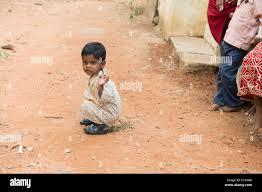Human: (66, 39, 129, 133)
